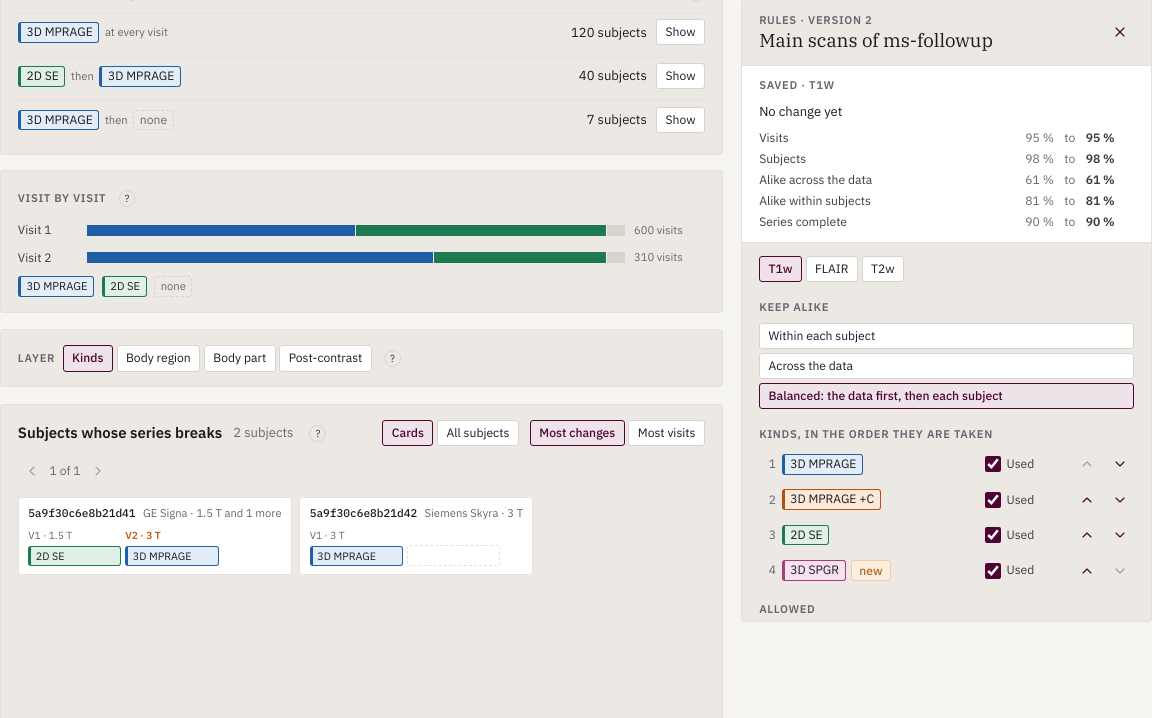
it: Main scans' layers › colours every subject's strip by the layer, filled for the scan taken and outlined for what most scans are, with no kind's change marked
This screenshot has width=1152, height=718.
(page scrolled)
Click the button "Body region". click: click(158, 358)
box: [117,345,200,372]
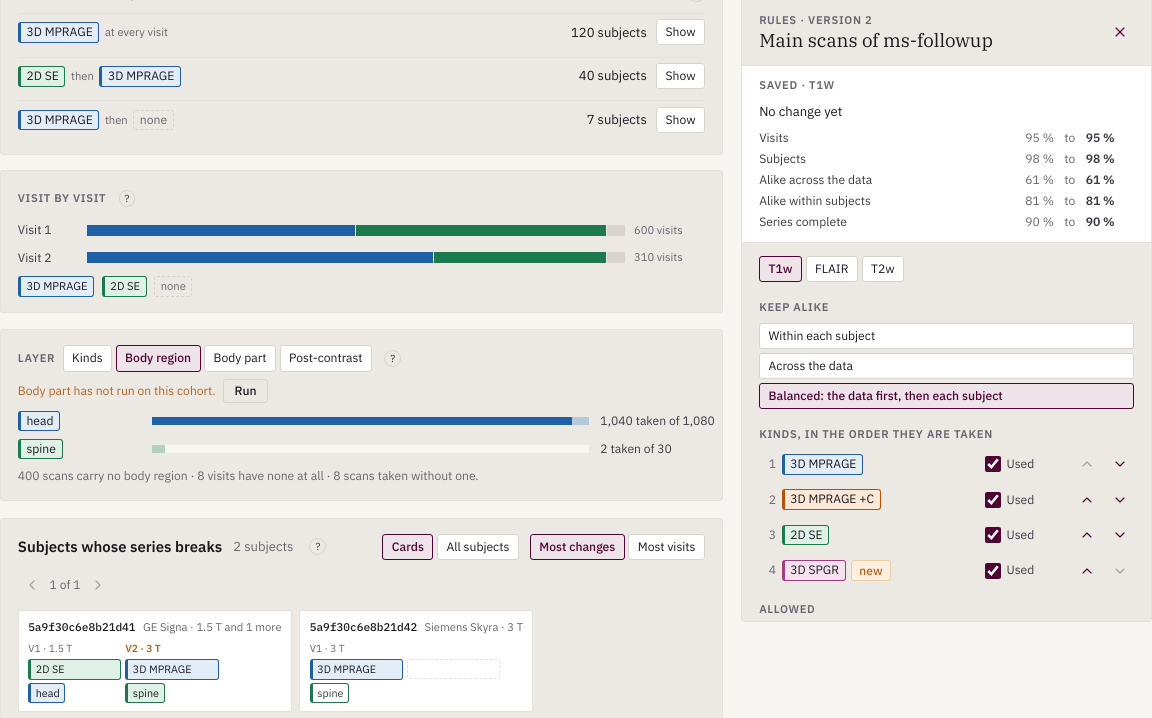
Click the button "All subjects". click: click(478, 547)
box: [437,534,519,560]
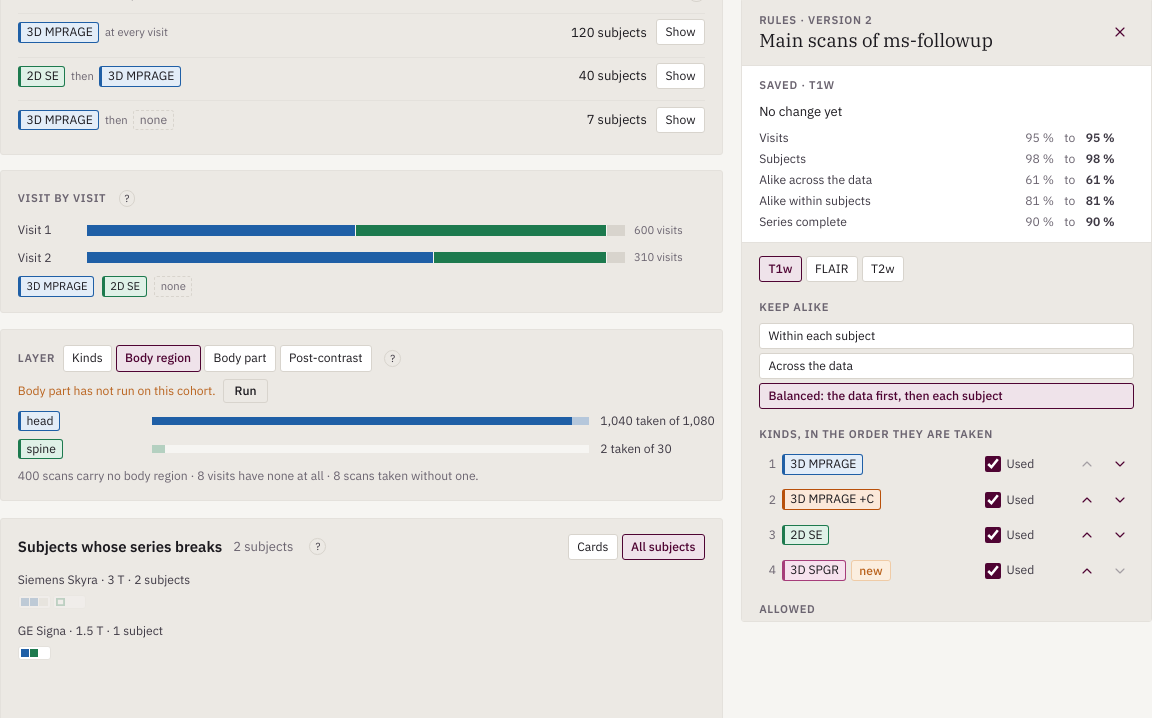
Expected: no buttons with class "changed" are shown
Click the button "Kinds". click: click(87, 358)
box: [63,345,112,372]
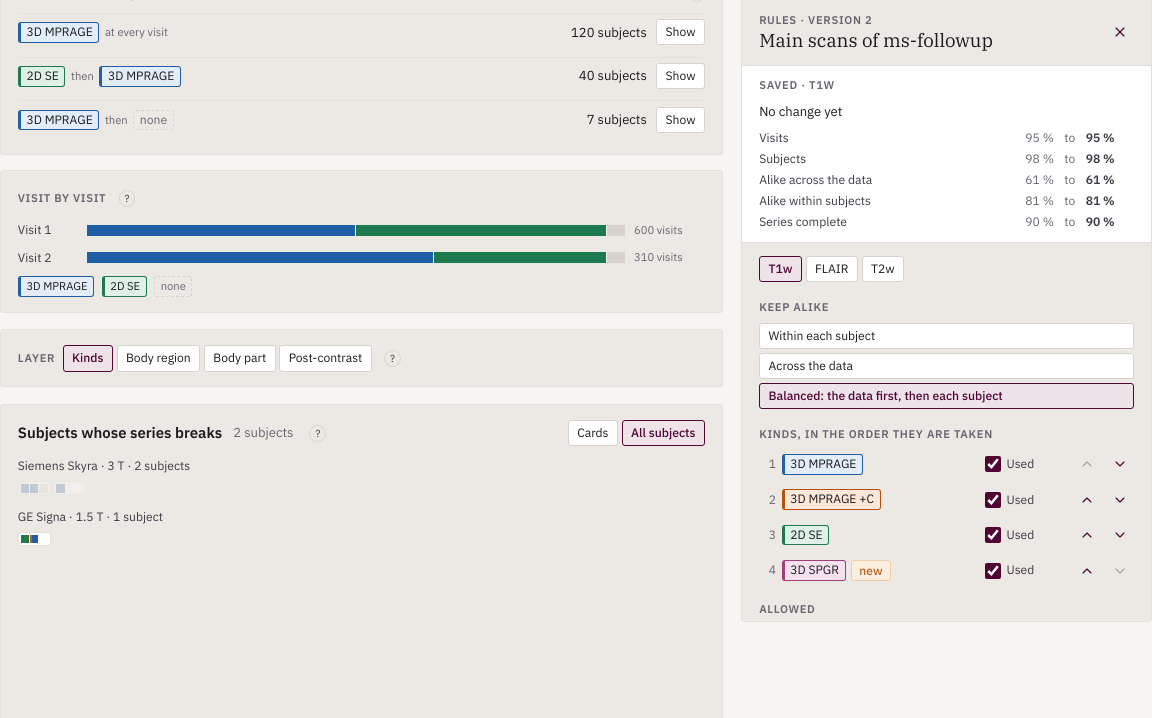
Expected: the number of icons with class "changed" is 1, [30,535,38,544]
